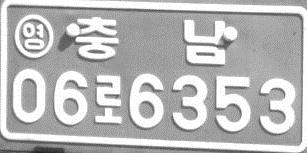0: (11, 67, 46, 123)
3: (170, 73, 208, 132), (259, 77, 296, 135)
5: (214, 74, 251, 133)
6: (128, 72, 164, 129), (53, 70, 88, 126)
로: (94, 74, 123, 124)
영: (13, 13, 54, 59)
충남_D: (75, 16, 226, 65)
